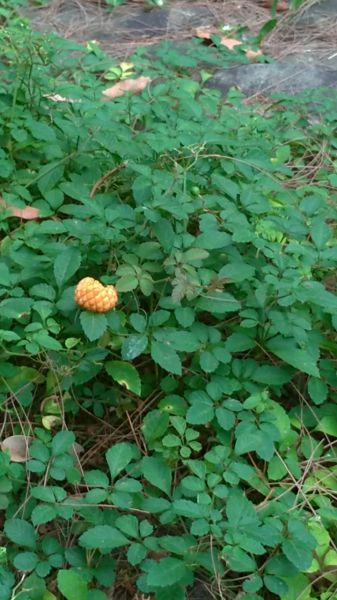eggs: (71, 270, 121, 319)
